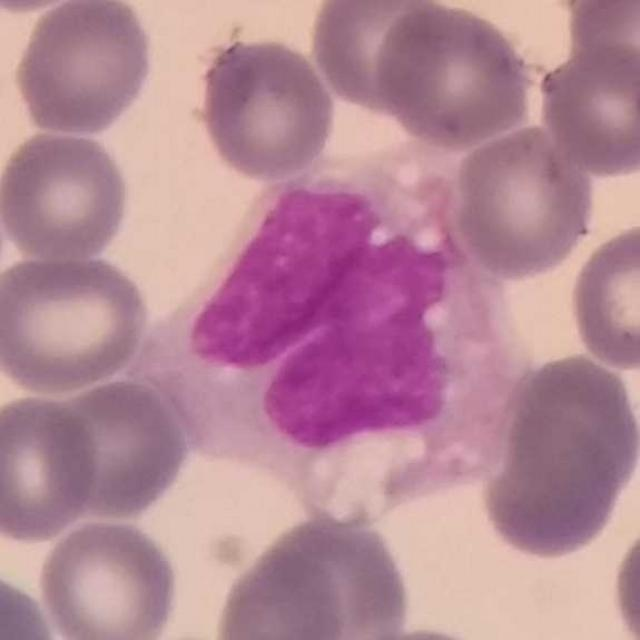mono: (129, 134, 527, 522)
